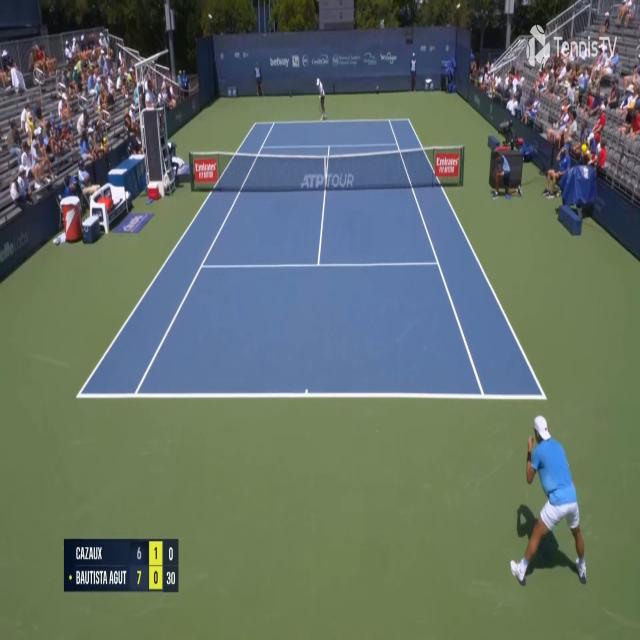tennis-player: (512, 409, 592, 592), (314, 76, 327, 121)
